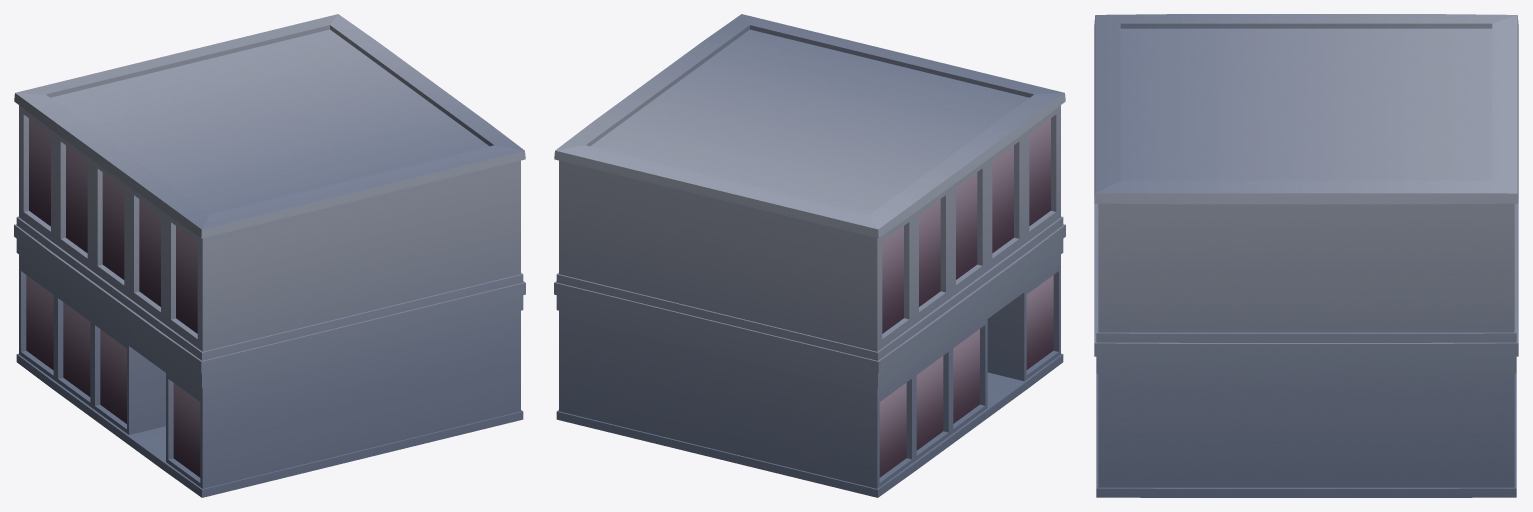
The model's file is miami_building_001.FBX.
The picture shows the model from 3 angles, left to right: view 1: azimuth 30°, elevation 25°; view 2: azimuth 150°, elevation 25°; view 3: azimuth 270°, elevation 25°; orthographic projection. The views are drawn at different scales.
Visible parts, largest first — view 1: building001; view 2: building001; view 3: building001.
Part boxes in pixels (x1,y1,x2,y2): building001: [14, 14, 525, 497]; building001: [554, 14, 1065, 497]; building001: [1094, 14, 1518, 497].
Size of the model in its own units: 308 by 244 by 306.
